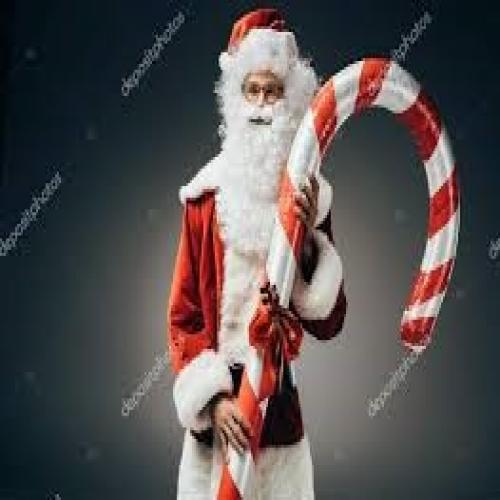Santa: (168, 6, 348, 500)
